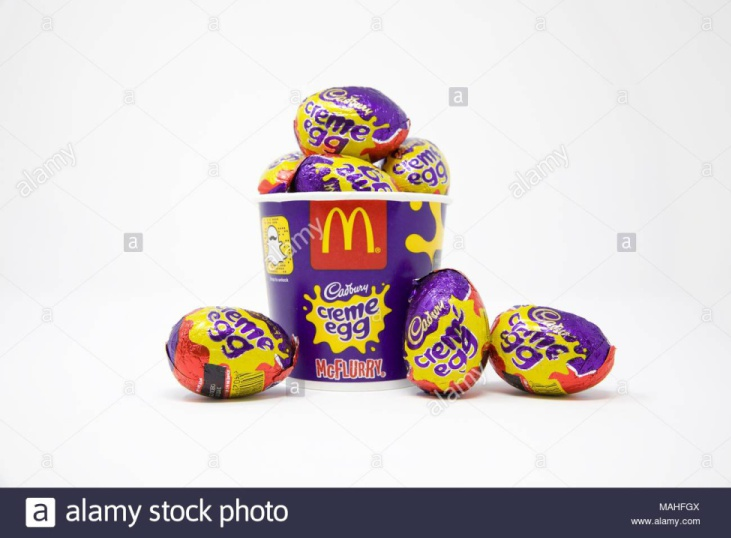mcdonalds: (315, 208, 384, 264)
